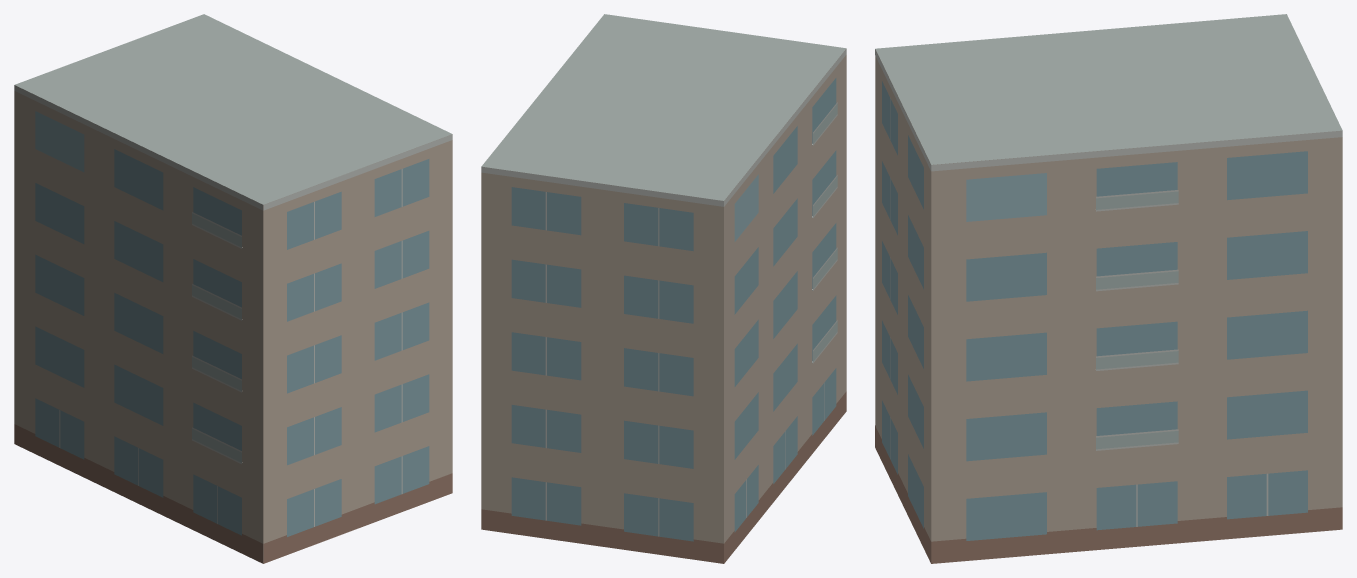
Rendered from survey-upis-32707281.glb.
The picture shows the model from 3 angles, left to right: view 1: azimuth 30°, elevation 25°; view 2: azimuth 150°, elevation 25°; view 3: azimuth 270°, elevation 25°; orthographic projection. The views are drawn at different scales.
Visible parts, largest first — view 1: survey-upis-32707281.tmp; view 2: survey-upis-32707281.tmp; view 3: survey-upis-32707281.tmp.
Boxes of the visible parts, <box> form: survey-upis-32707281.tmp: <box>14,14,452,563</box>; survey-upis-32707281.tmp: <box>481,14,846,563</box>; survey-upis-32707281.tmp: <box>875,14,1342,563</box>.
Bounding box in the file's own units: 12.14 × 14.95 × 15.89.
